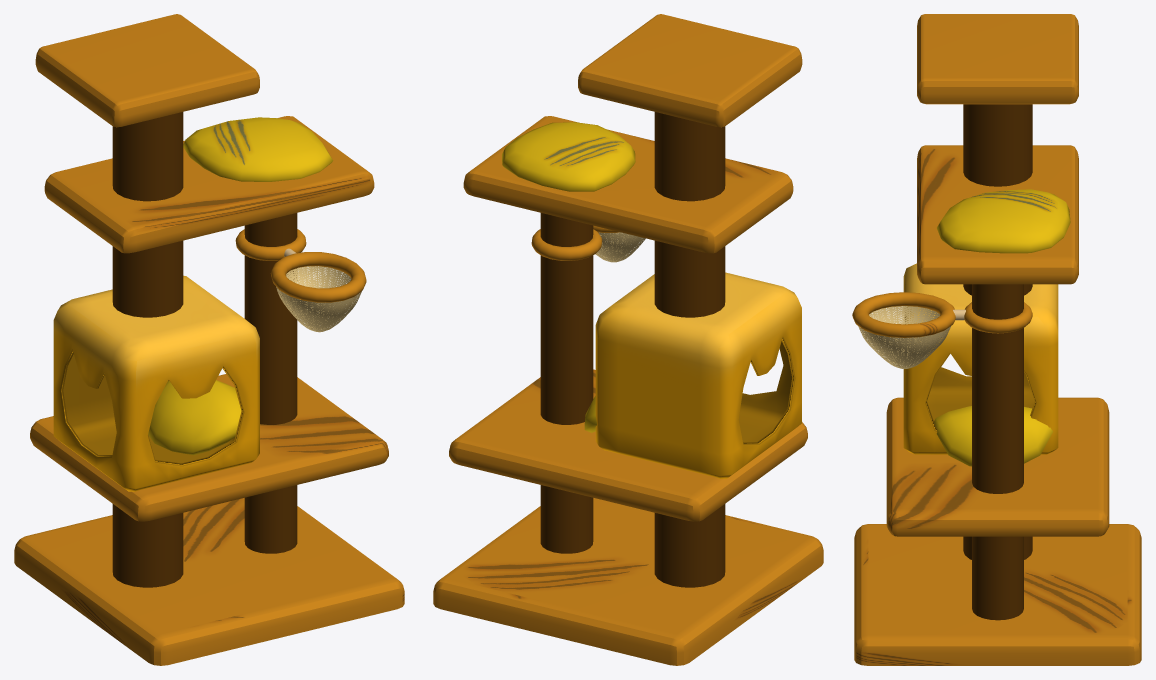
File: cattower.fbx
3 views of the same model, side by side, from view 1: azimuth 30°, elevation 25°; view 2: azimuth 150°, elevation 25°; view 3: azimuth 270°, elevation 25° (orthographic). The views are drawn at different scales.
Parts seen in each view (by area): view 1: platform1, CAT_BOX, platfrom3, platform4, platform2, pole_R, pole_L, costion, costion1, cloth, cloth_ring1, cloth_ring; view 2: platform1, CAT_BOX, platform2, platfrom3, platform4, pole_R, pole_L, costion, cloth_ring, cloth; view 3: platform1, platform2, platform4, pole_L, platfrom3, CAT_BOX, costion, pole_R, cloth, cloth_ring1, costion1, cloth_ring.
Part boxes in pixels (left/top/right/bottom): platform1: left=14, top=498, right=404, bottom=665; CAT_BOX: left=53, top=275, right=259, bottom=491; platfrom3: left=44, top=116, right=374, bottom=253; platform4: left=35, top=14, right=259, bottom=127; platform2: left=30, top=374, right=388, bottom=521; pole_R: left=112, top=112, right=183, bottom=587; pole_L: left=244, top=213, right=297, bottom=553; costion: left=183, top=117, right=333, bottom=181; costion1: left=148, top=380, right=241, bottom=455; cloth: left=276, top=266, right=361, bottom=332; cloth_ring1: left=270, top=252, right=366, bottom=302; cloth_ring: left=235, top=229, right=306, bottom=260; platform1: left=433, top=498, right=823, bottom=665; CAT_BOX: left=595, top=272, right=801, bottom=478; platform2: left=449, top=369, right=807, bottom=521; platfrom3: left=463, top=116, right=793, bottom=253; platform4: left=578, top=14, right=802, bottom=127; pole_R: left=654, top=112, right=725, bottom=587; pole_L: left=540, top=213, right=593, bottom=553; costion: left=502, top=122, right=635, bottom=191; cloth_ring: left=531, top=229, right=602, bottom=260; cloth: left=595, top=232, right=645, bottom=262; platform1: left=854, top=524, right=1141, bottom=665; platform2: left=886, top=397, right=1109, bottom=536; platform4: left=917, top=14, right=1078, bottom=104; pole_L: left=972, top=284, right=1023, bottom=620; platfrom3: left=917, top=145, right=1078, bottom=284; CAT_BOX: left=903, top=263, right=1058, bottom=454; costion: left=937, top=189, right=1070, bottom=253; pole_R: left=963, top=104, right=1032, bottom=559; cloth: left=858, top=306, right=950, bottom=368; cloth_ring1: left=852, top=292, right=955, bottom=337; costion1: left=934, top=406, right=1053, bottom=466; cloth_ring: left=964, top=302, right=1032, bottom=333.
Size of the model in its own units: 8.53 by 16.8 by 8.31.
Materials: 6 (3 with a texture image).
